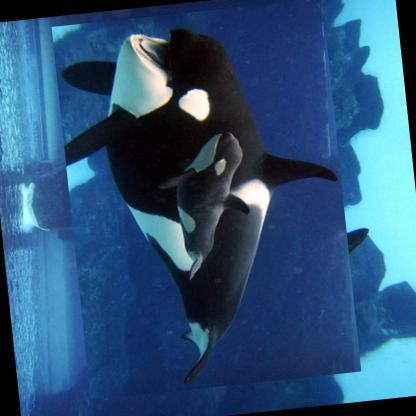killer_whale: (51, 0, 363, 400), (143, 97, 280, 269)
